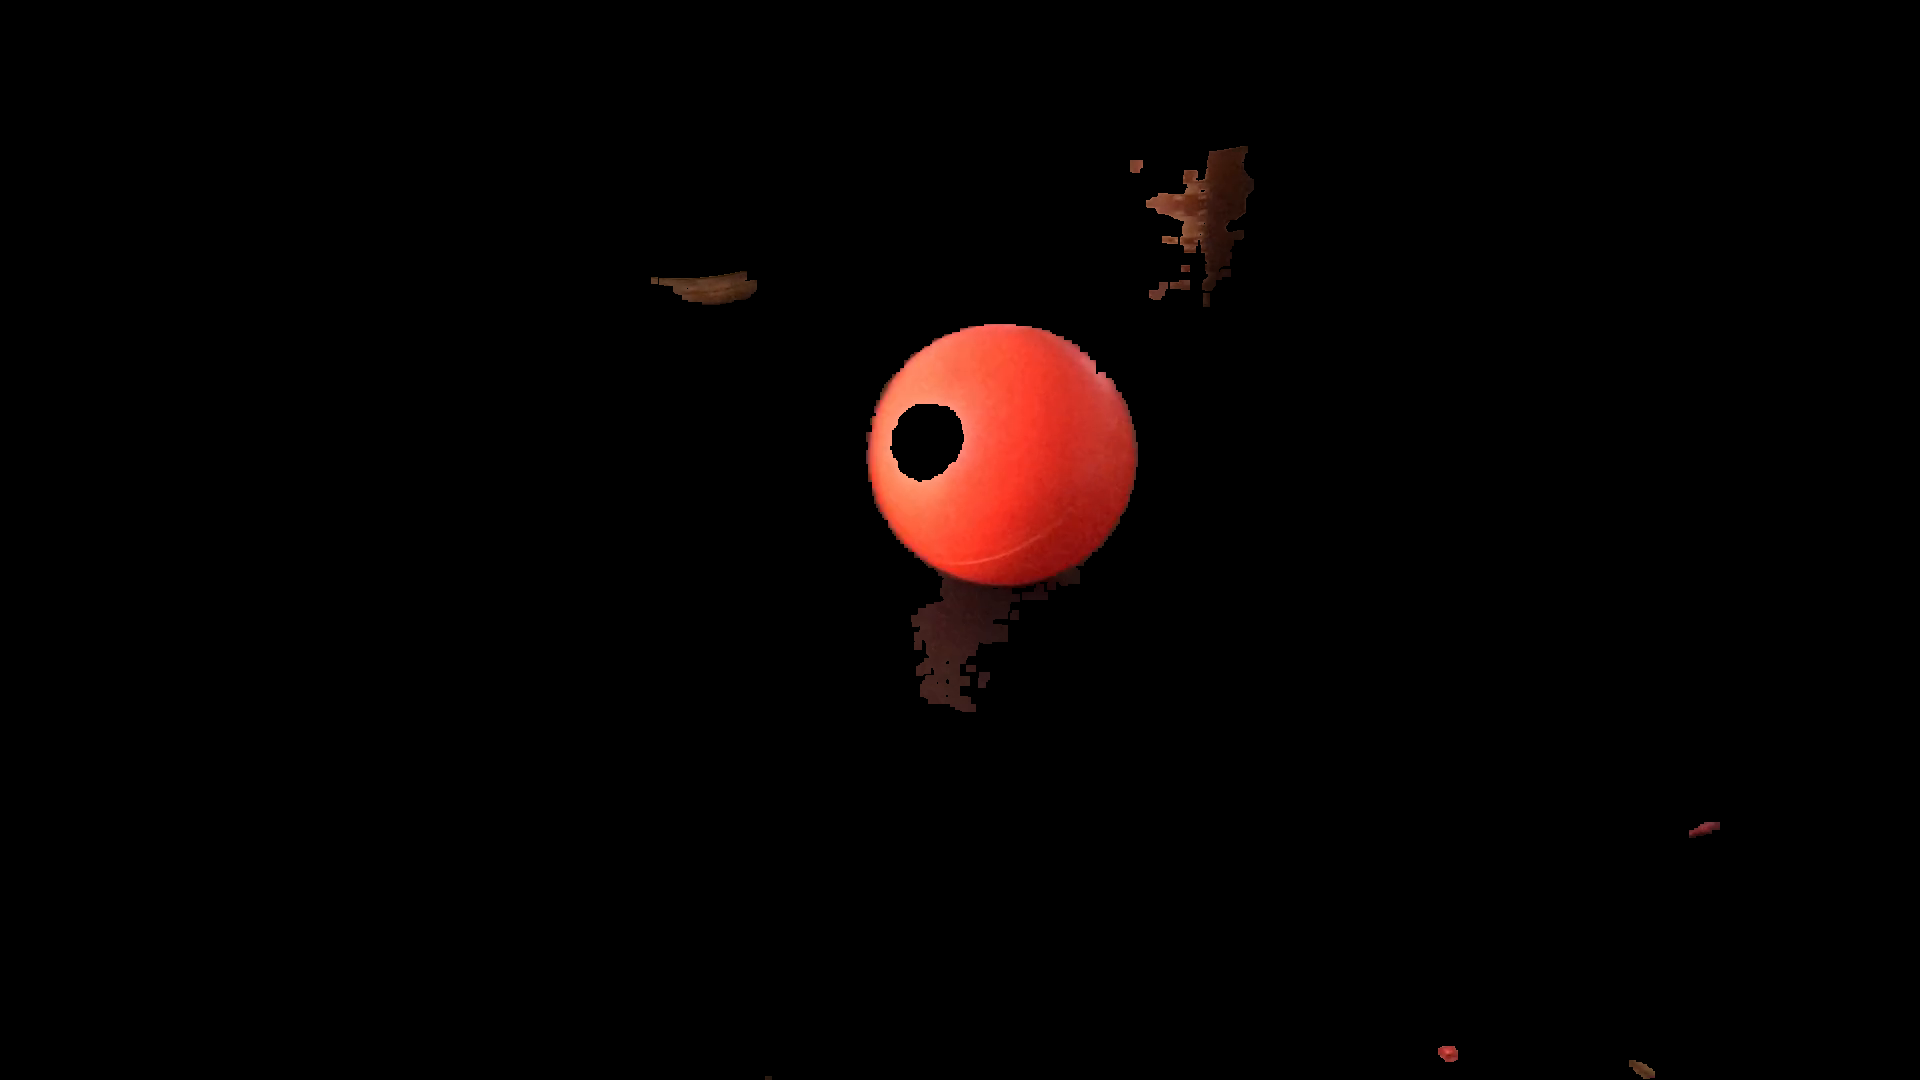Ball: (870, 320, 1133, 584)
